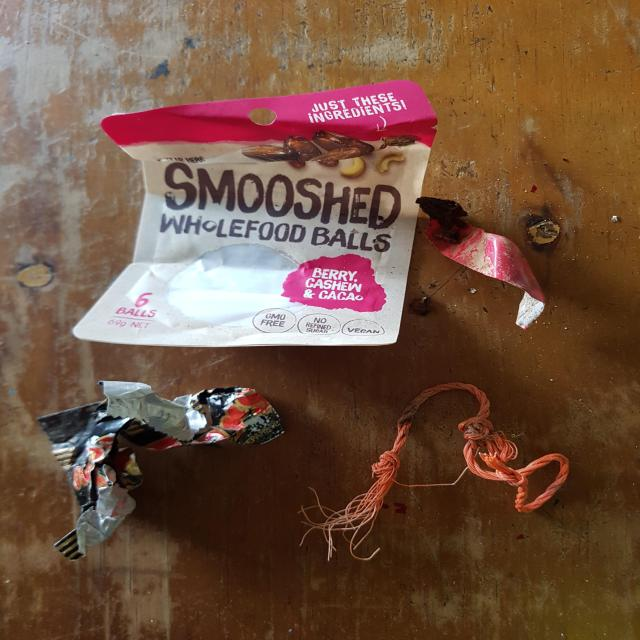litter: (69, 76, 438, 345), (37, 383, 287, 559)
